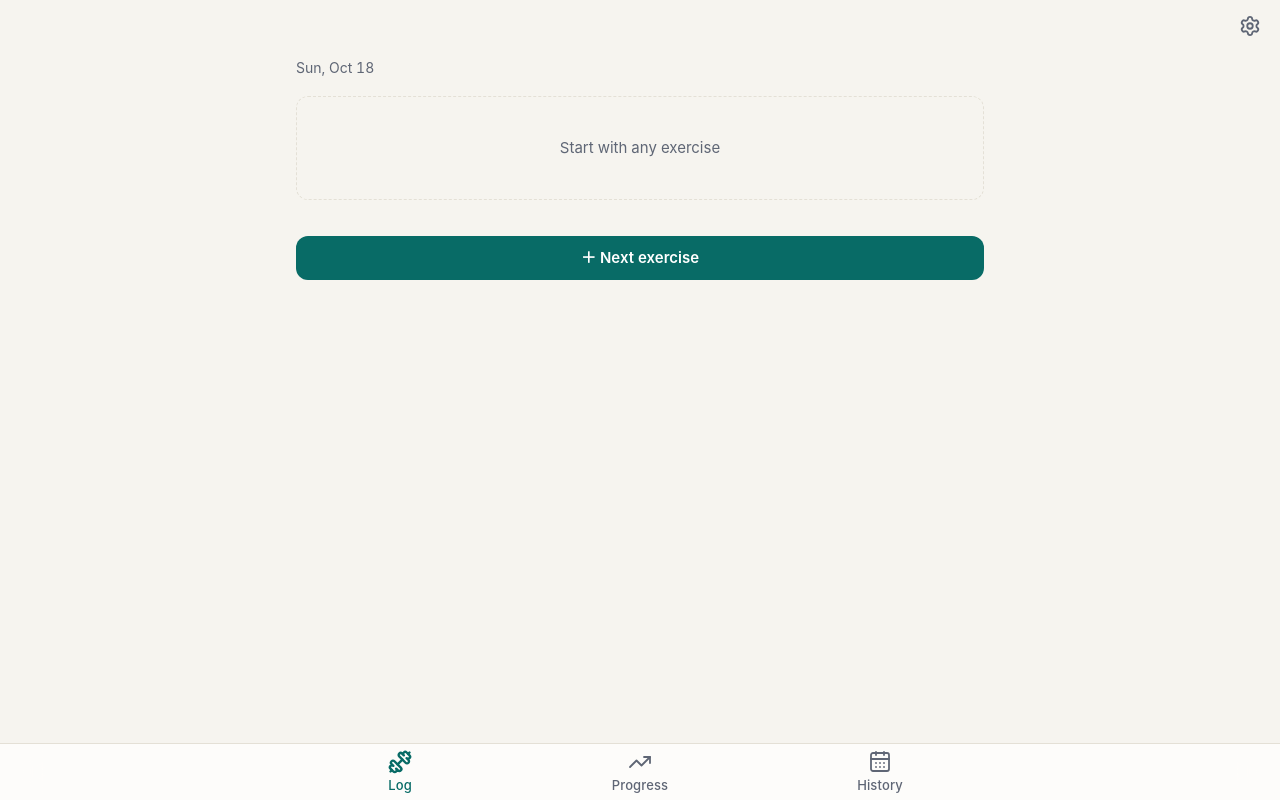
Test: next-exercise picker › with no recent training there's no volume list to show
What coordinates should you click on to do the following:
click the button "＋ Next exercise"
I would click on:
 (640, 258)
Its box is x1=296 y1=236 x2=984 y2=280.
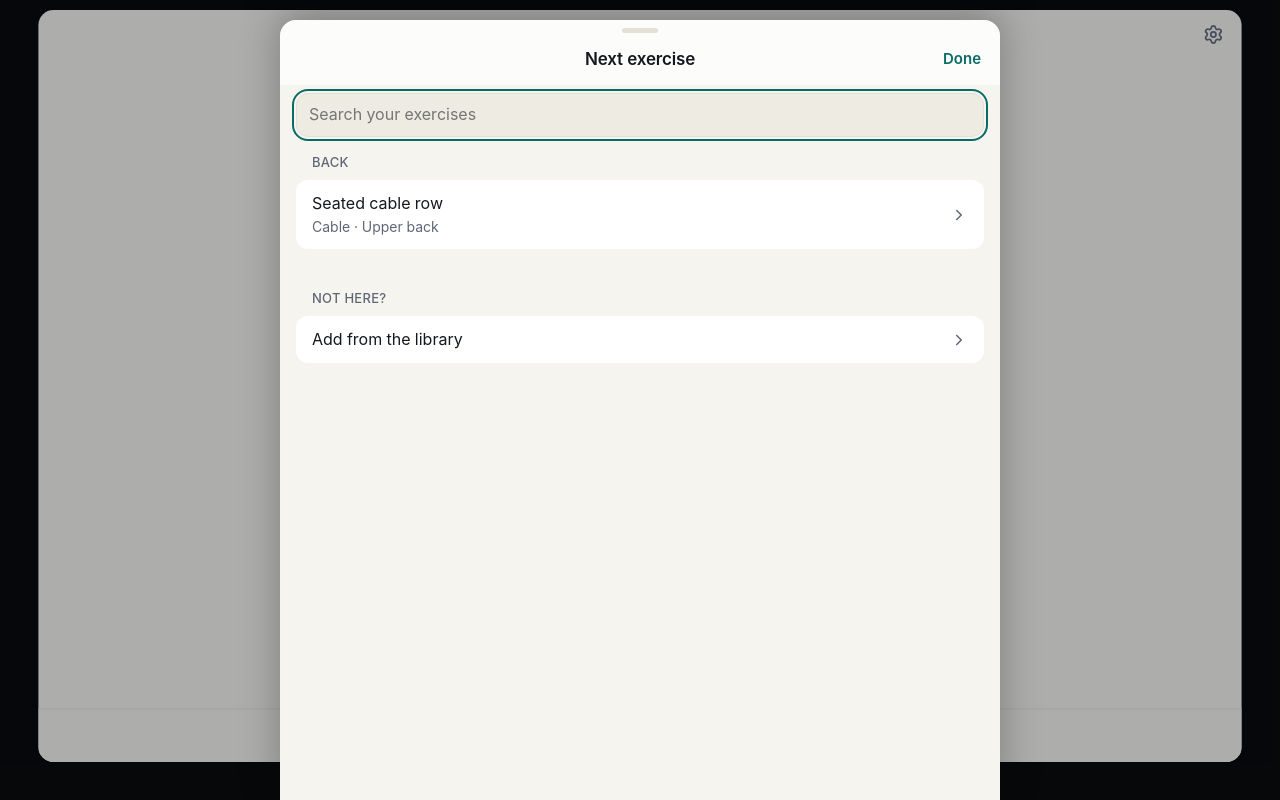
Check: the dialog "Next exercise" is shown, box x1=280 y1=20 x2=1000 y2=799
